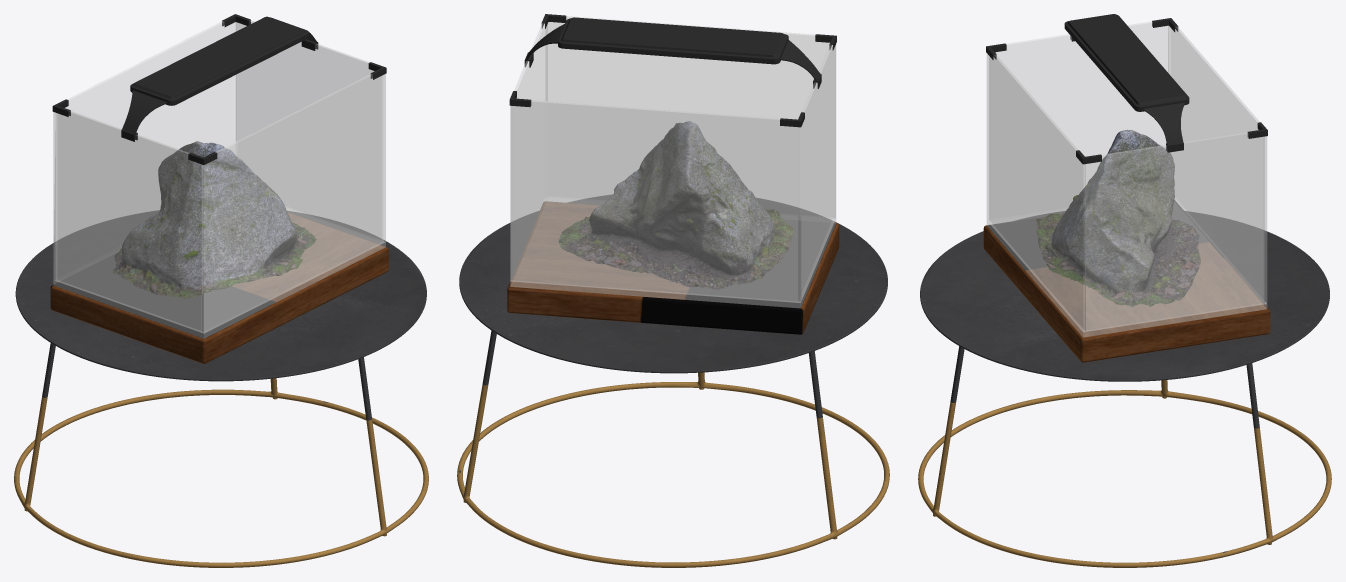
File: mesa-acuario.glb
3 views of the same model, side by side, from view 1: azimuth 30°, elevation 25°; view 2: azimuth 150°, elevation 25°; view 3: azimuth 270°, elevation 25° (orthographic). The views are drawn at different scales.
Visible parts, largest first — view 1: Cube.004, CoffeeTableNimbusGoldReplica001, Rock in a Forest; view 2: Cube.004, CoffeeTableNimbusGoldReplica001, Rock in a Forest; view 3: Cube.004, CoffeeTableNimbusGoldReplica001, Rock in a Forest.
Part boxes in pixels (box(x1,y1,x2,y2)): Cube.004: box(50, 14, 388, 363); CoffeeTableNimbusGoldReplica001: box(14, 210, 428, 567); Rock in a Forest: box(112, 141, 316, 298); Cube.004: box(507, 14, 839, 334); CoffeeTableNimbusGoldReplica001: box(457, 194, 889, 567); Rock in a Forest: box(558, 121, 793, 289); Cube.004: box(983, 14, 1270, 362); CoffeeTableNimbusGoldReplica001: box(918, 211, 1331, 567); Rock in a Forest: box(1036, 129, 1200, 306).
Size of the model in its own units: 0.7184 by 0.8123 by 0.7183.
7 materials, 4 textured.
